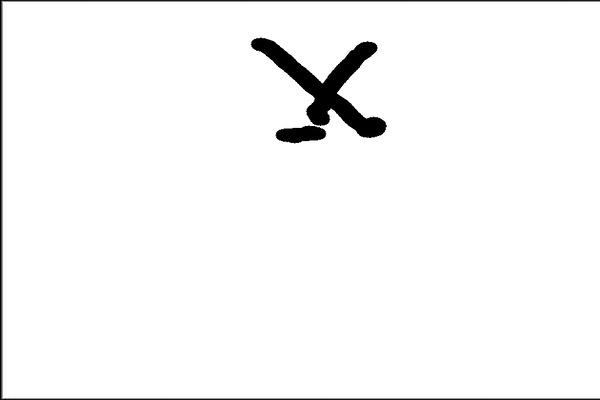X: (226, 24, 426, 151)
